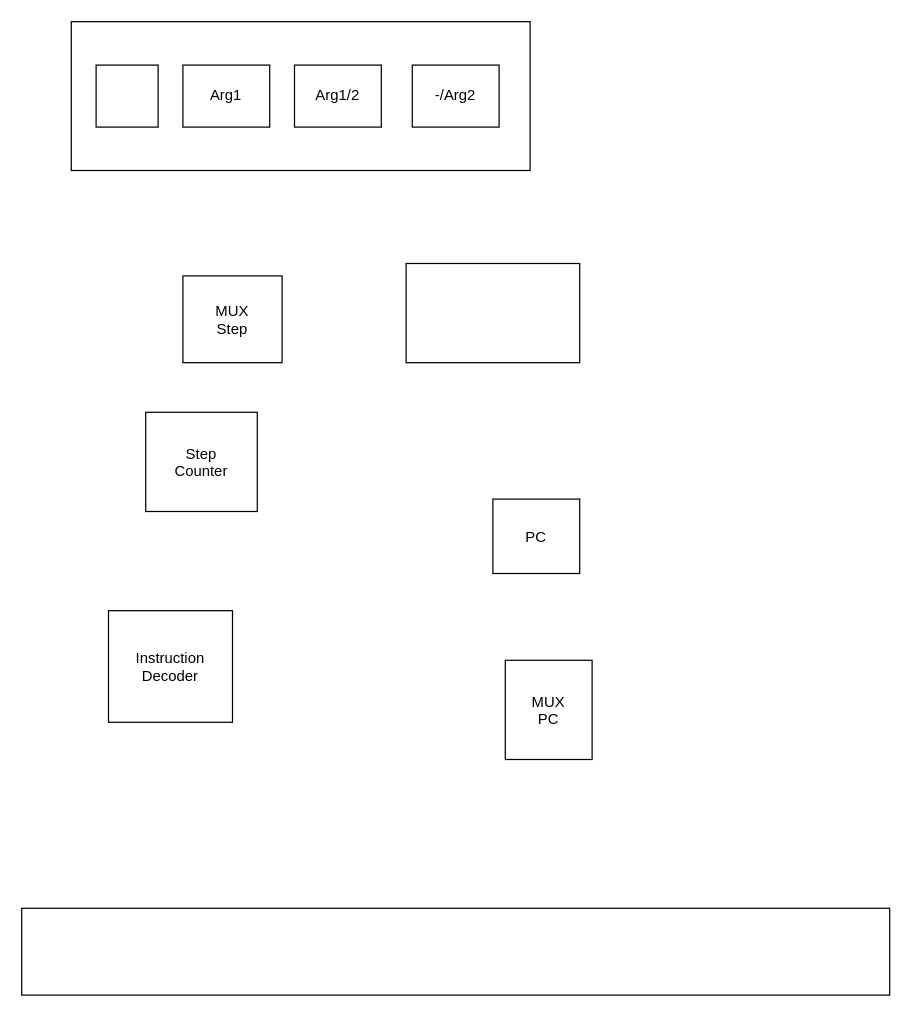
This 911x1017 diagram has some shape labels left out. The shapes that lost their labels are listed below. From the top down, each one's box as (x1, y1, x2, y2) in pixels, then its label:
(95, 64, 158, 127): Op
(405, 262, 580, 363): Memory
(20, 907, 890, 995): DataPath
